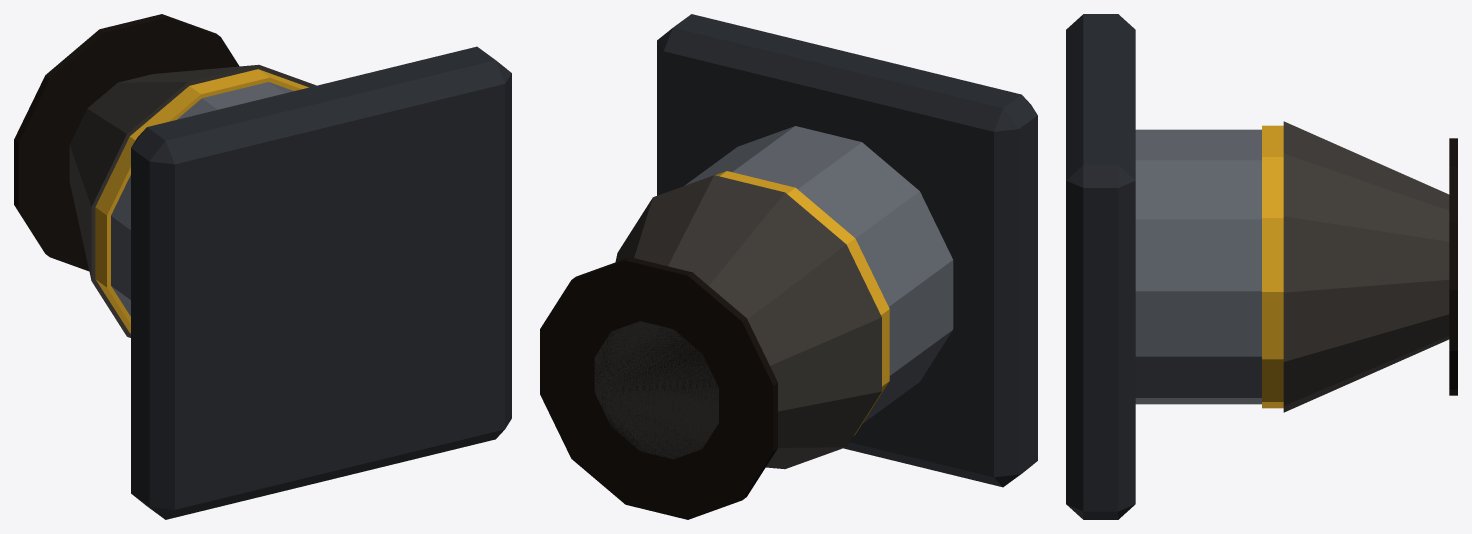
File: thruster.glb
3 renders of one model, left to right at view 1: azimuth 30°, elevation 25°; view 2: azimuth 150°, elevation 25°; view 3: azimuth 270°, elevation 25°, orthographic. The views are drawn at different scales.
Parts seen in each view (by area): view 1: thruster; view 2: thruster; view 3: thruster.
Part boxes in pixels (x1=…): thruster: x1=14, y1=14, x2=511, y2=519; thruster: x1=540, y1=14, x2=1037, y2=519; thruster: x1=1066, y1=14, x2=1457, y2=519.
Size of the model in its own units: 0.9 by 0.9 by 0.9.
